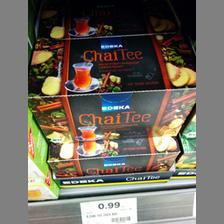Tee: (26, 32, 194, 140), (45, 134, 179, 174)
